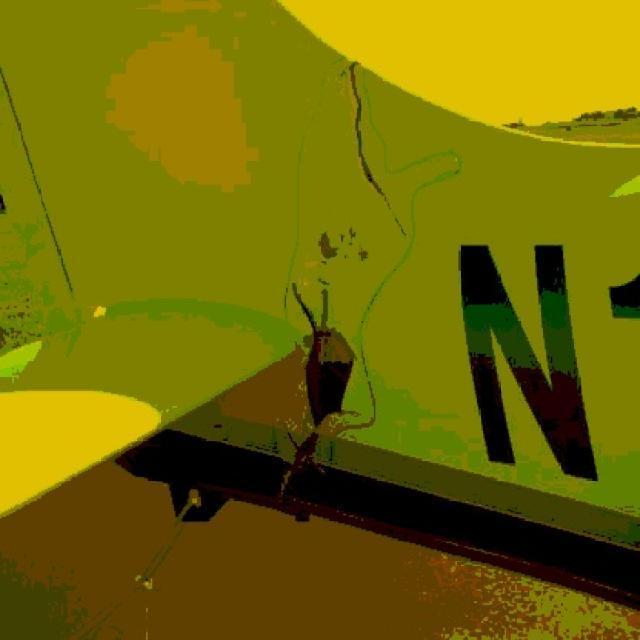crack: (343, 77, 406, 223)
